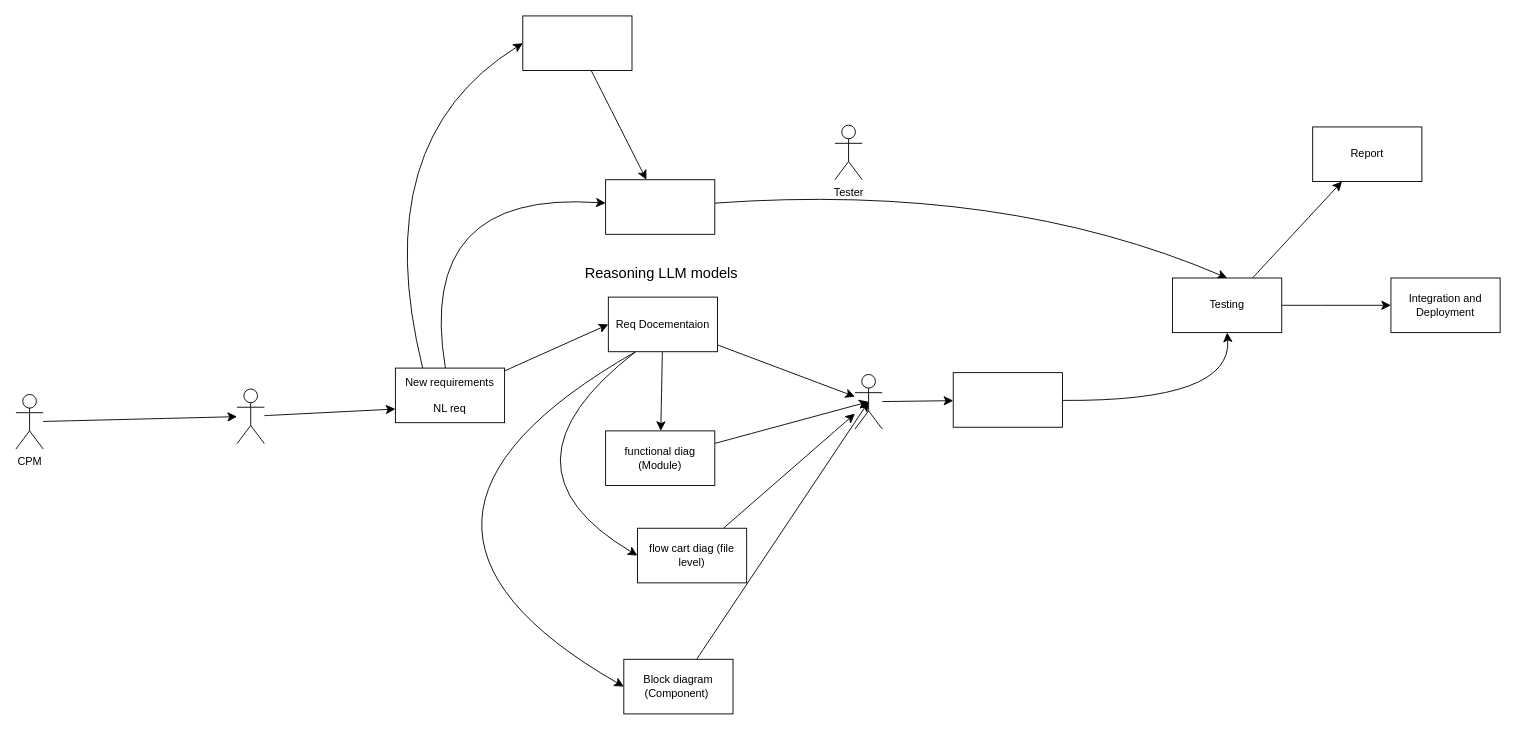
The diagram is 1516 pixels wide and 730 high, and some of its shapes have lost their labels. Here are the shapes that lost their labels. From the top down, the centre of each, then its label:
the point at 577,43: Usecase diagrams
the point at 660,206: Test files
the point at 250,416: SWPM
the point at 868,401: Coding + Architect
the point at 1007,399: Code Generation
